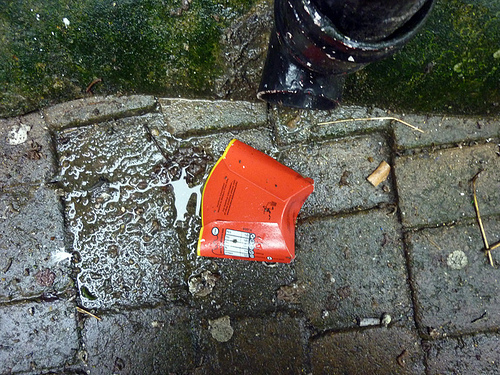litter: (197, 141, 313, 264), (368, 164, 391, 186)
